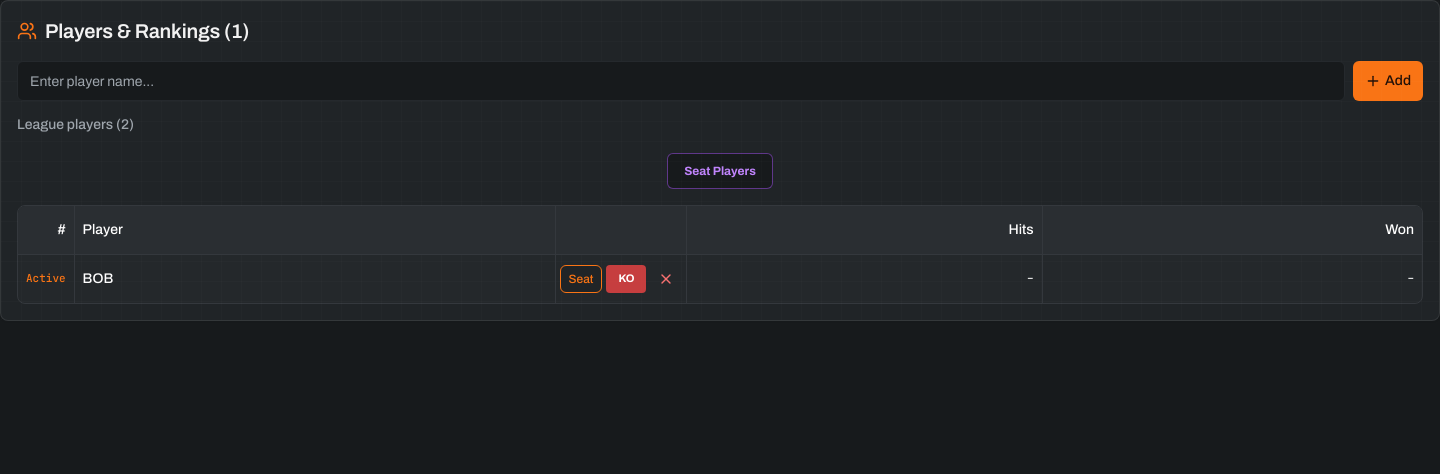
Test: the names Add Player offers › in a league game, offers the league players by their full names
Click the button "League players (2)" at (76, 125), box [17,113,134,137]
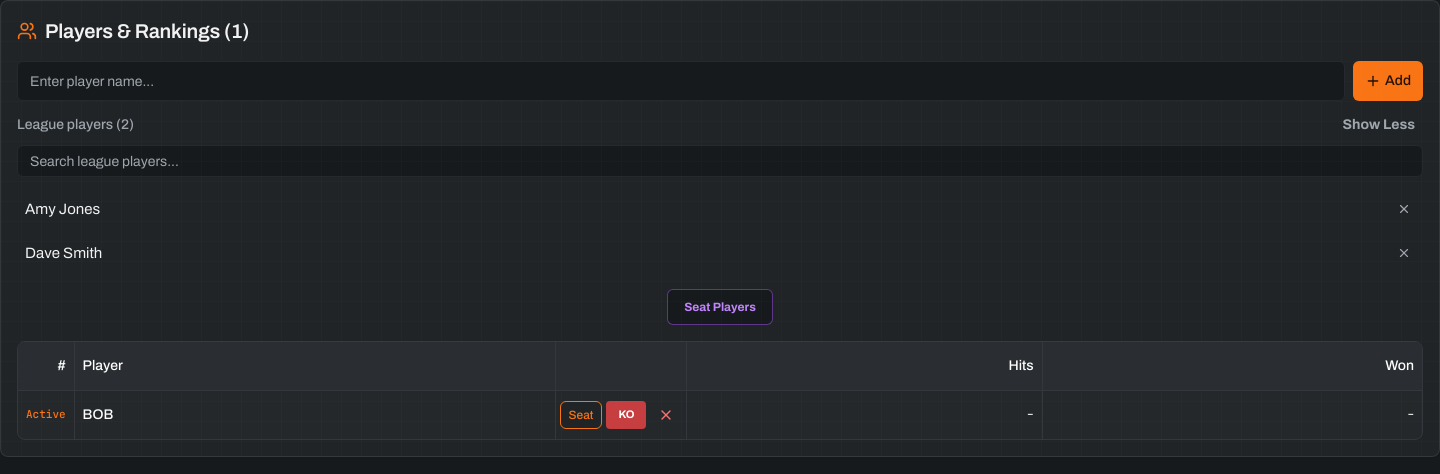
Now the button "Dave Smith" is shown, box [25,241,1385,265]
